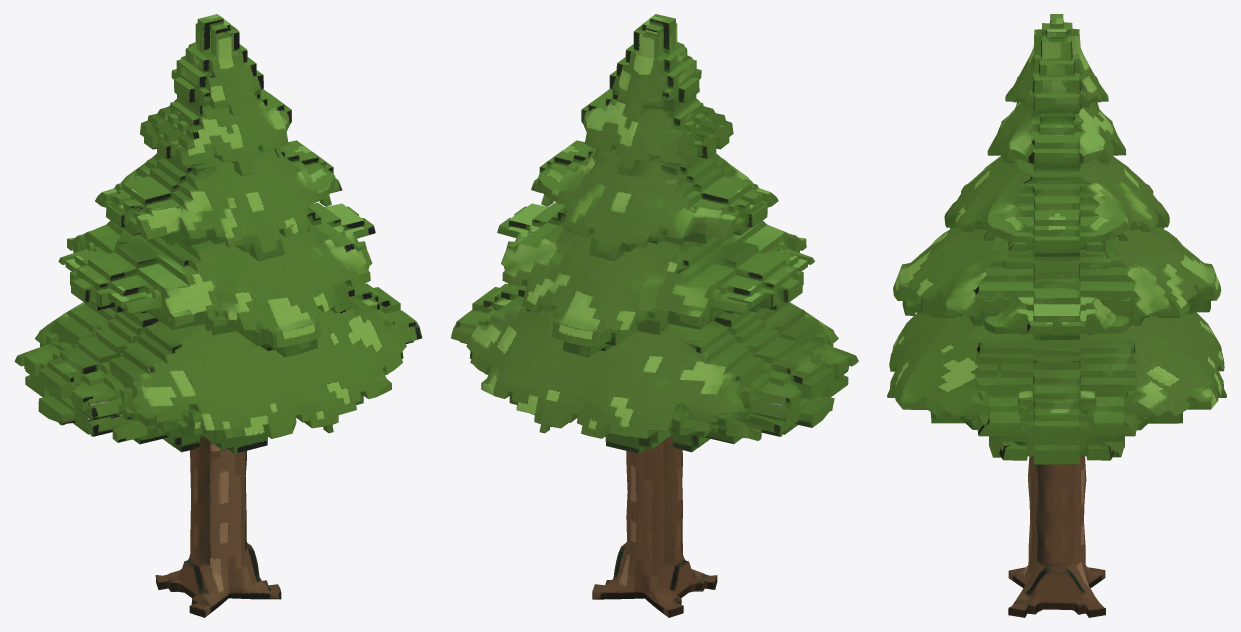
Rendered from tree_pine_pixel.glb.
3 renders of one model, left to right at view 1: azimuth 30°, elevation 25°; view 2: azimuth 150°, elevation 25°; view 3: azimuth 270°, elevation 25°, orthographic.
Size of the model in its own units: 1.18 by 1.9 by 1.02.
1 material, 1 textured.
